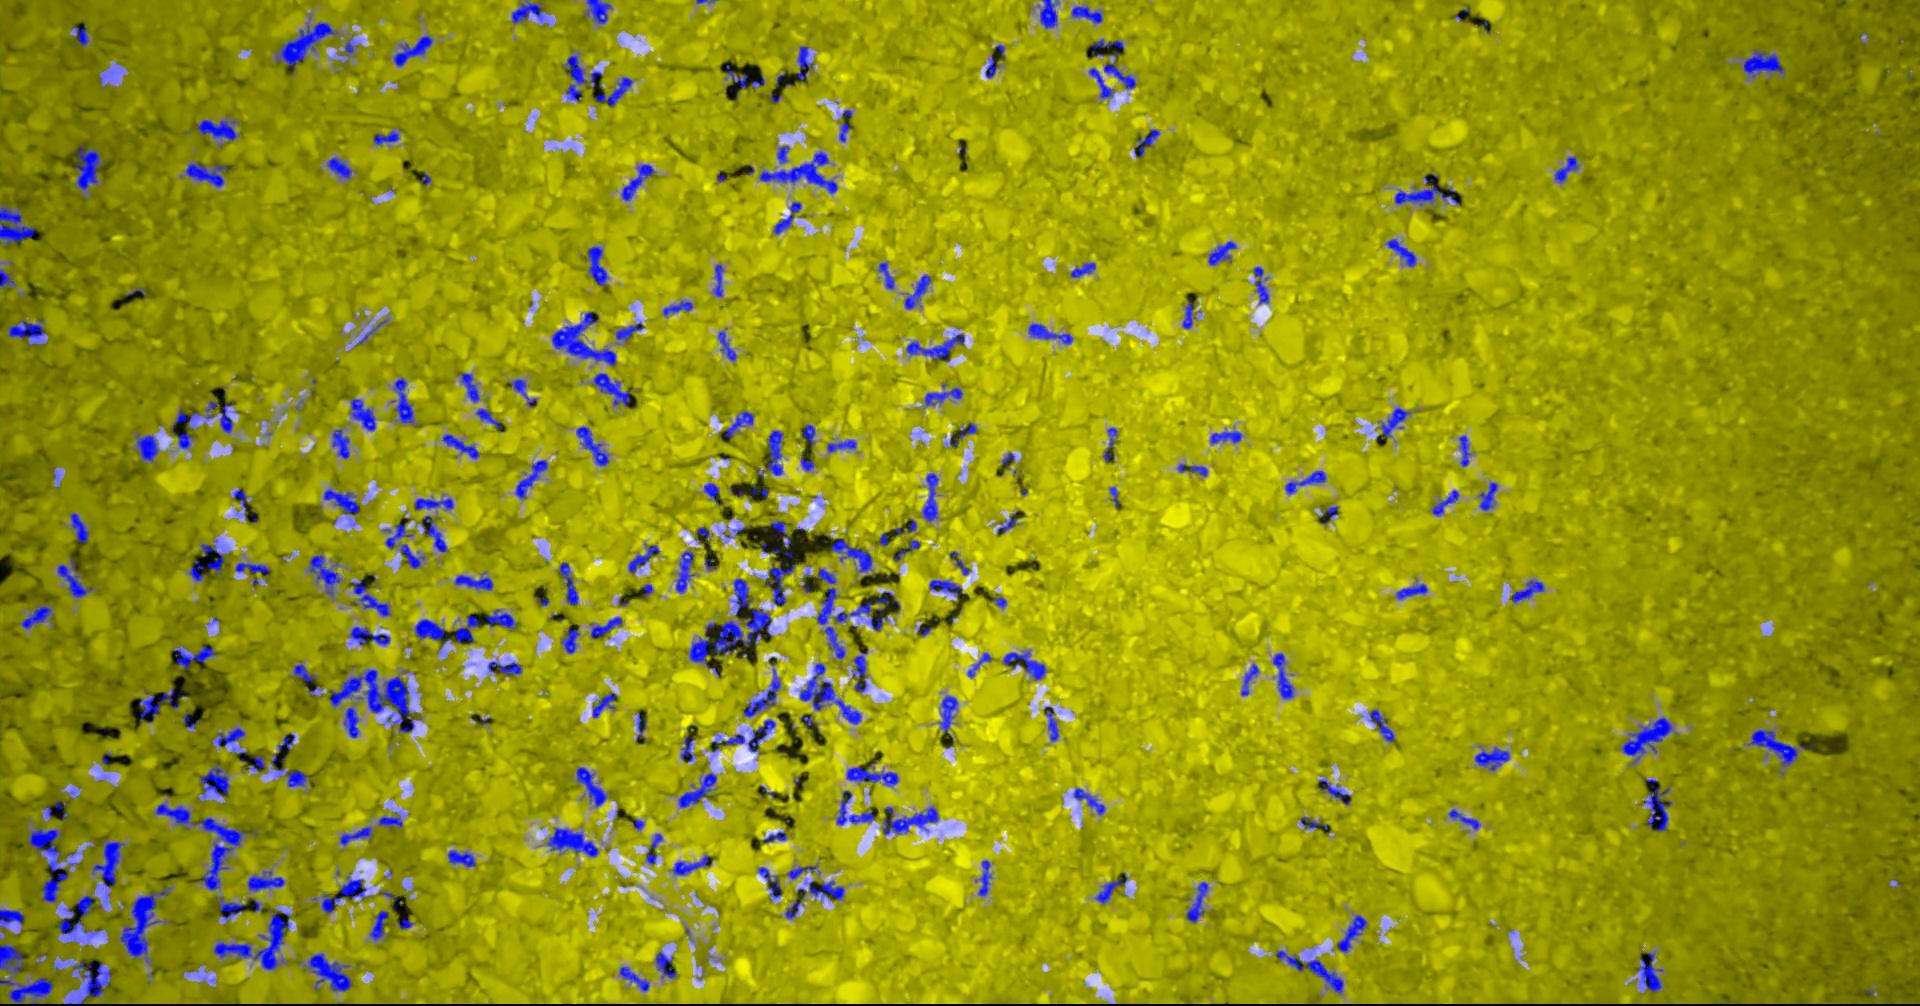ant: (799, 663, 860, 723), (759, 151, 837, 193), (276, 22, 337, 74), (1275, 950, 1343, 993), (817, 568, 844, 658), (1622, 716, 1672, 762), (1394, 173, 1459, 205), (834, 591, 899, 622), (711, 719, 775, 751), (743, 663, 780, 716), (1747, 729, 1797, 766), (321, 875, 367, 913), (72, 959, 110, 1005), (565, 55, 601, 102), (307, 953, 350, 991), (905, 333, 964, 361), (138, 688, 187, 721), (91, 838, 124, 887), (883, 807, 938, 835), (545, 827, 597, 856), (0, 977, 53, 1005), (1643, 779, 1671, 831), (0, 205, 36, 245), (56, 556, 91, 597), (764, 561, 797, 605), (188, 542, 223, 580), (350, 580, 389, 616), (677, 772, 716, 807), (830, 539, 871, 572), (309, 555, 342, 596), (836, 790, 874, 824), (58, 895, 93, 934), (575, 426, 608, 465), (514, 459, 547, 498), (1002, 650, 1045, 680), (75, 144, 102, 191), (593, 372, 629, 406), (392, 36, 432, 66), (621, 164, 654, 199), (577, 767, 606, 807), (594, 76, 632, 105), (1743, 50, 1784, 76), (1337, 915, 1366, 951), (171, 645, 215, 669), (185, 161, 226, 187), (1638, 951, 1663, 992), (844, 766, 897, 785), (323, 488, 359, 514), (441, 433, 479, 459), (1095, 873, 1126, 903), (199, 763, 229, 796), (1284, 470, 1326, 493), (1272, 652, 1293, 699), (420, 514, 446, 551), (392, 377, 413, 423), (1379, 406, 1410, 437), (1185, 882, 1208, 922), (204, 400, 234, 432), (414, 619, 450, 644), (797, 880, 844, 899), (8, 318, 44, 342), (1029, 323, 1072, 343), (904, 274, 930, 309), (770, 520, 792, 558), (921, 473, 938, 521), (196, 119, 237, 140), (1385, 238, 1416, 265), (629, 545, 659, 573), (773, 201, 800, 232), (1317, 779, 1350, 804), (672, 855, 712, 875), (723, 410, 753, 437), (1073, 788, 1103, 814), (1369, 709, 1394, 741), (587, 245, 607, 285), (350, 398, 375, 431), (1474, 747, 1509, 770), (938, 695, 957, 735), (676, 550, 693, 593), (559, 561, 577, 605), (1103, 64, 1135, 88), (20, 605, 53, 627), (248, 870, 284, 890), (1134, 128, 1159, 158), (1088, 67, 1112, 98), (757, 866, 781, 897), (766, 431, 782, 475), (510, 0, 542, 23), (350, 626, 389, 645), (232, 747, 264, 770), (1511, 580, 1544, 602), (510, 379, 536, 406), (949, 422, 977, 447), (217, 895, 245, 921), (455, 614, 479, 643), (0, 942, 23, 973), (618, 967, 649, 989), (590, 616, 622, 638), (924, 387, 963, 405), (1431, 489, 1458, 514), (455, 572, 491, 589), (1448, 809, 1479, 829), (385, 523, 411, 547), (1208, 241, 1236, 264), (135, 433, 157, 461), (1090, 39, 1123, 58), (852, 650, 867, 691), (584, 0, 611, 23), (1554, 156, 1577, 183), (484, 608, 516, 627), (1239, 663, 1258, 695), (339, 826, 371, 845), (891, 539, 919, 560), (930, 579, 963, 597), (400, 544, 424, 568), (592, 692, 616, 716), (796, 44, 811, 83), (1253, 265, 1269, 304), (475, 408, 500, 431), (968, 652, 990, 677), (370, 909, 389, 940), (460, 372, 479, 401), (996, 509, 1018, 533), (70, 512, 88, 542), (733, 578, 748, 614), (975, 860, 990, 895), (655, 951, 676, 978), (615, 321, 643, 340), (717, 332, 737, 359), (216, 727, 244, 746), (1070, 6, 1102, 23), (1396, 583, 1427, 600), (1043, 706, 1058, 741), (725, 64, 747, 88), (331, 429, 349, 459), (1479, 481, 1497, 511), (645, 833, 662, 864), (1039, 0, 1057, 28), (326, 158, 350, 178), (787, 862, 817, 879), (1103, 427, 1117, 461), (235, 561, 269, 575), (662, 300, 692, 315), (413, 498, 453, 509), (343, 706, 358, 737), (44, 799, 67, 819), (488, 661, 521, 674), (447, 850, 475, 866), (950, 551, 969, 575), (0, 908, 24, 927), (561, 627, 579, 653), (877, 262, 894, 288), (174, 409, 201, 426), (232, 488, 246, 518), (377, 810, 403, 827), (1209, 431, 1241, 443), (1458, 434, 1470, 466), (825, 439, 856, 452), (1177, 464, 1208, 476), (293, 663, 315, 681), (284, 770, 307, 786), (1300, 815, 1327, 829), (1070, 262, 1095, 277), (703, 481, 719, 506), (681, 734, 693, 762), (373, 130, 397, 144), (72, 23, 88, 44), (712, 264, 723, 296), (636, 711, 646, 743), (985, 55, 999, 77), (277, 733, 295, 751), (783, 899, 800, 918), (801, 424, 815, 446), (762, 831, 786, 842), (1182, 301, 1192, 328), (869, 615, 886, 630), (182, 713, 198, 728), (0, 269, 14, 287), (776, 145, 789, 163), (1109, 486, 1119, 508), (838, 122, 850, 141), (178, 432, 190, 448), (800, 456, 813, 470), (1324, 506, 1337, 520), (396, 918, 411, 929)
